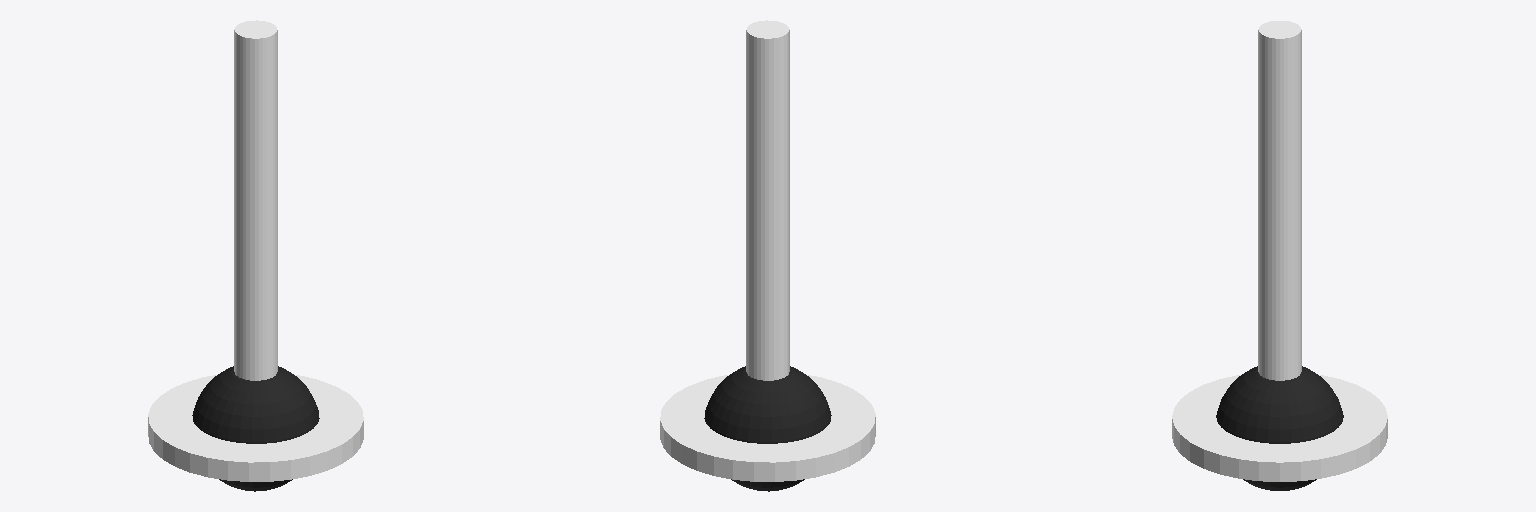
URDF robot description (arm):
<?xml version="1.0"?>
<robot name="arm">

  <!--Links-->
  <link name="base_link">
    <visual>
      <geometry>
        <cylinder length="0.01" radius="0.05"/>
      </geometry>
      <material name="white">
        <color rgba="1 1 1 1"/>
      </material>
    </visual>
  </link>

  <link name="link1">
    <visual>
      <geometry>
        <cylinder length="0.203" radius = "0.01"/>
      </geometry>
      <material name="white">
        <color rgba="1 1 1 1"/>
      </material>
      <origin xyz="0 0 0" rpy = "0 0 0"/>
    </visual>
  </link>

  <link name="link2">
     <visual>
      <geometry>
        <cylinder length="0.178" radius = "0.01"/>
      </geometry>
      <material name="white">
        <color rgba="1 1 1 1"/>
      </material>
      <origin xyz="0 0 0" rpy = "0 0 0"/>
    </visual>
  </link>  

  <link name="link3">
     <visual>
      <geometry>
        <cylinder length="0.178" radius = "0.01"/>
      </geometry>
      <material name="white">
        <color rgba="1 1 1 1"/>
      </material>
      <origin xyz="0 0 0" rpy = "0 0 0"/>
    </visual>
  </link>

  <link name="link4">
     <visual>
      <geometry>
        <cylinder length="0.178" radius = "0.01"/>
      </geometry>
      <material name="white">
        <color rgba="1 1 1 1"/>
      </material>
      <origin xyz="0 0 0" rpy = "0 0 0"/>
    </visual>
  </link>

  <link name="tool0"/>

  <link name="joint_1">
    <visual>
      <geometry>
       <sphere radius="0.03"/>
      </geometry>
      <material name="gray">
        <color rgba="0.2 0.2 0.2 1"/>
      </material>
        <origin xyz="0 0 0" rpy = "0 0 0"/>
    </visual>
  </link>
  
  <link name="joint_2">
    <visual>
      <geometry>
       <sphere radius="0.03"/>
      </geometry>  
      <material name="gray">
        <color rgba="0.2 0.2 0.2 1"/>
      </material>
      <origin xyz="0 0 0" rpy = "0 0 0"/>
    </visual>
  </link>
  <link name="joint_3">
    <visual>
      <geometry>
       <sphere radius="0.03"/>
      </geometry>  
      <material name="gray">
        <color rgba="0.2 0.2 0.2 1"/>
      </material>
      <origin xyz="0 0 0" rpy = "0 0 0"/>
    </visual>
  </link>

  <link name="joint_4">
    <visual>
      <geometry>
       <sphere radius="0.03"/>
      </geometry>  
      <material name="gray">
        <color rgba="0.2 0.2 0.2 1"/>
      </material>
      <origin xyz="0 0 0" rpy = "0 0 0"/>
    </visual>
  </link>
  
  <!--Joints-->
  <joint name="joint_1" type="revolute">
    <axis xyz="0 0 1"/>
    <parent link="base_link"/>
    <child link="joint_1"/>
    <origin xyz="0 0 0" rpy = "0 0 0"/>
    <limit effort="1000.0" lower="-1.62" upper="1.62" velocity="0.5"/>
  </joint>
  
  <joint name="joint_2" type="revolute">
    <axis xyz="0 0 1"/>
    <parent link="joint_1"/>
    <child link="joint_2"/>
    <origin xyz="0 0 0" rpy = "0 0 0"/>
    <limit effort="1000.0" lower="-0.96" upper="2.182" velocity="0.5"/>
  </joint>

  <joint name="joint_3" type="prismatic">
    <axis xyz="0 0 1"/>
    <parent link="joint_2"/>
    <child link="joint_3"/>
    <origin xyz="0 0 0" rpy = "0 0 0"/>
    <limit effort="1000.0" lower="-0.178" upper="0" velocity="0.5"/>
  </joint>

  <joint name="joint_4" type="revolute">
    <axis xyz="0 1 0"/>
    <parent link="joint_3"/>
    <child link="joint_4"/>
    <origin xyz="0 0 0" rpy = "0 0 0"/>
    <limit effort="1000.0" lower="-1.62" upper="1.62" velocity="0.5"/>
  </joint>

  <joint name="link1_to_joint_1" type="fixed">
    <parent link="joint_1"/>
    <child link="link1"/>
    <origin xyz="0 0 0.1015" rpy = "0 0 0"/>
  </joint>

  <joint name="link2_to_joint_2" type="fixed">
    <parent link="joint_2"/>
    <child link="link2"/>
    <origin xyz="0 0 0.089" rpy = "0 0 0"/>
  </joint>

 <joint name="link3_to_joint_3" type="fixed">
    <parent link="joint_3"/>
    <child link="link3"/>
    <origin xyz="0 0 0.089" rpy = "0 0 0"/>
  </joint>
  
 <joint name="link4_to_joint_4" type="fixed">
    <parent link="joint_4"/>
    <child link="link4"/>
    <origin xyz="0 0 0.089" rpy = "0 0 0"/>
  </joint>

  <joint name="base_link_to_tool0" type="fixed">
    <parent link="joint_4"/>
    <child link="tool0"/>
    <origin xyz="0 0 0" rpy = "0 0 0"/>
  </joint>
  

</robot>

--- Render facts (derived) ---
Views: 3 orthographic renders of the robot side by side, from view 1: azimuth 30°, elevation 25°; view 2: azimuth 150°, elevation 25°; view 3: azimuth 270°, elevation 25°.
Robot: arm — 10 links, 9 joints (3 revolute, 1 prismatic, 5 fixed); root link base_link; default pose: all joints at 0.
Visible links, largest first — view 1: base_link, link1, joint_1, link2; view 2: base_link, link1, joint_1, link2; view 3: base_link, link1, joint_1, link2.
Link boxes in pixels (x1=…): base_link: x1=148, y1=375, x2=363, y2=481; link1: x1=234, y1=20, x2=277, y2=380; joint_1: x1=192, y1=366, x2=319, y2=491; link2: x1=234, y1=81, x2=277, y2=380; base_link: x1=660, y1=375, x2=875, y2=481; link1: x1=746, y1=20, x2=789, y2=380; joint_1: x1=704, y1=366, x2=831, y2=491; link2: x1=746, y1=81, x2=789, y2=380; base_link: x1=1172, y1=375, x2=1387, y2=481; link1: x1=1258, y1=21, x2=1301, y2=380; joint_1: x1=1216, y1=366, x2=1343, y2=490; link2: x1=1258, y1=80, x2=1301, y2=380.
Size in the robot's own frame: 0.1 by 0.1 by 0.233 metres.
Geometry: primitives only (box / cylinder / sphere), no mesh files.
